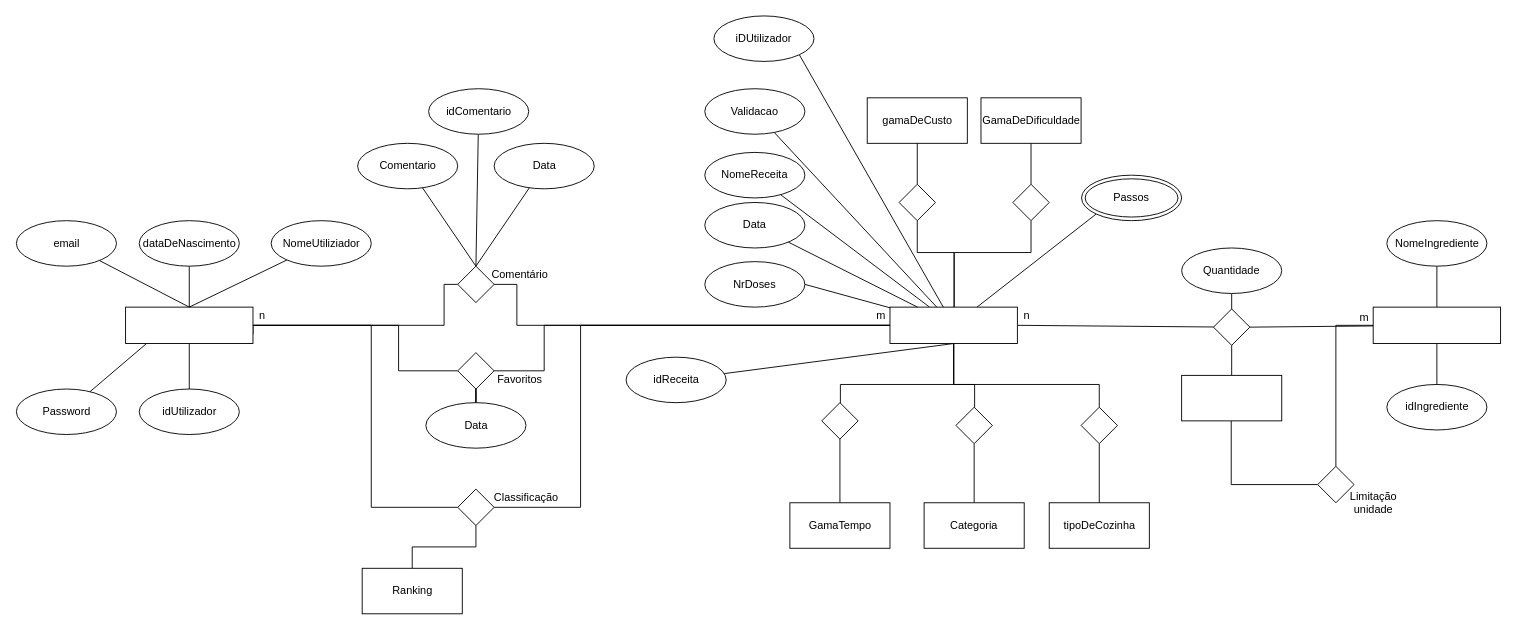
Some shapes in this 1516 by 630 pixel diagram are drawn without their labels. The centre of each missing label's shape, as x and y in pixels:
Ingrediente: the point at 1436,325
Receita: the point at 953,325
Unidade de medida: the point at 1231,397
Utilizador: the point at 189,325
